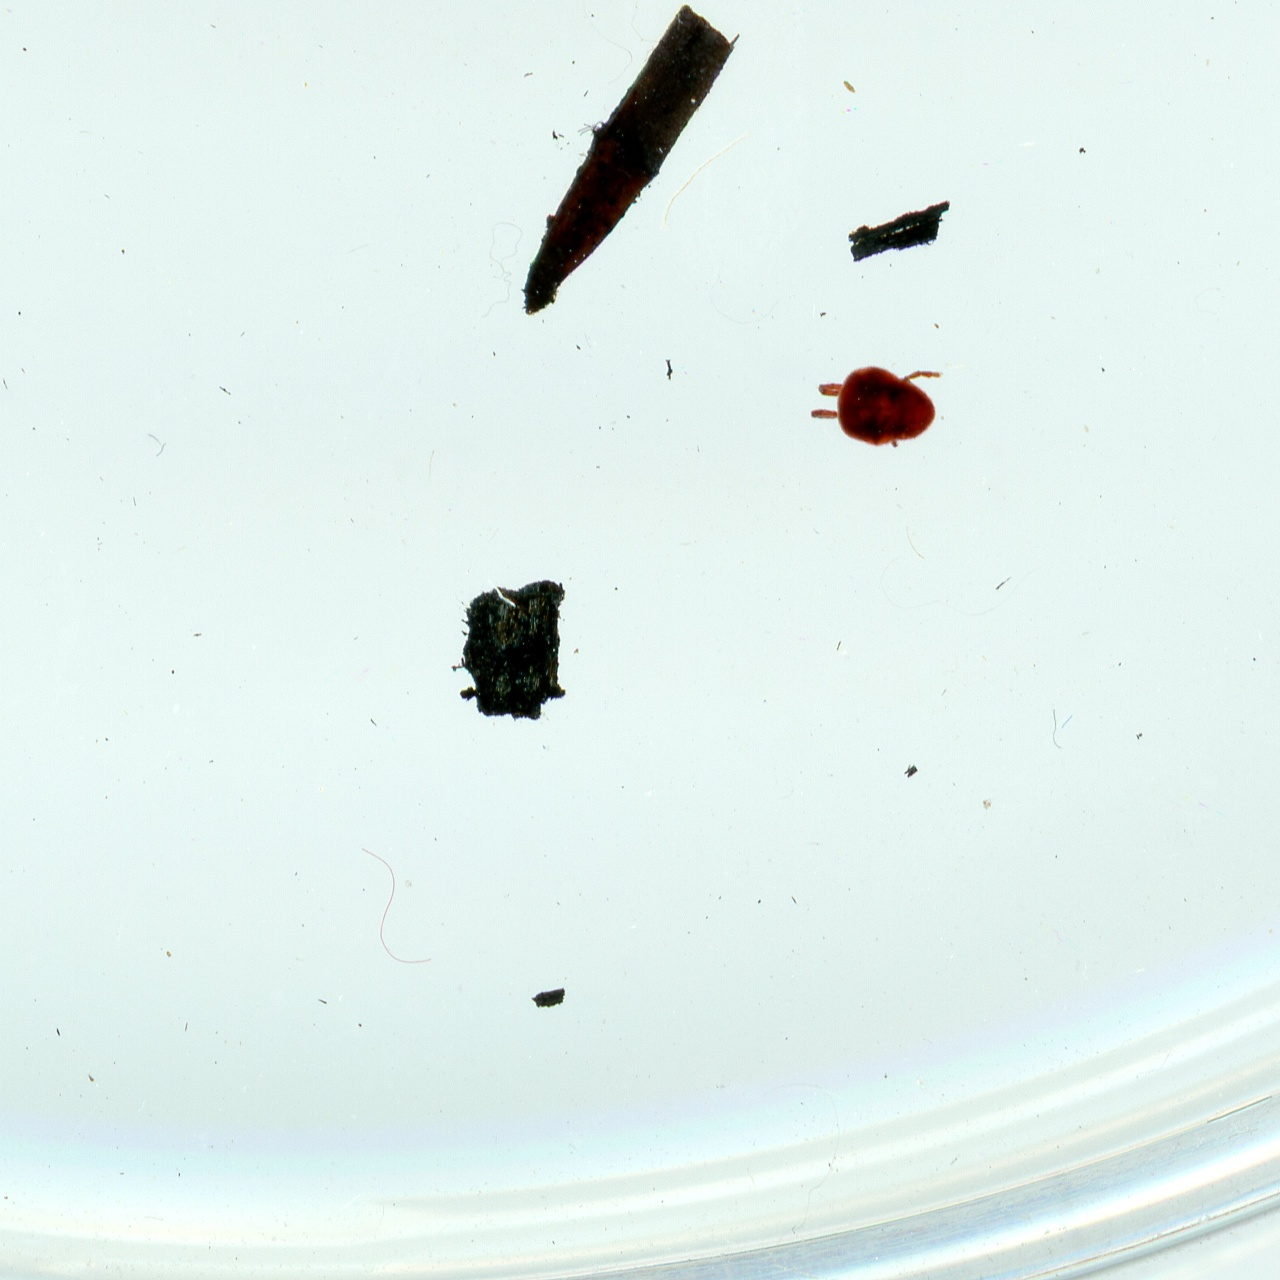arthropod: (806, 363, 947, 457)
